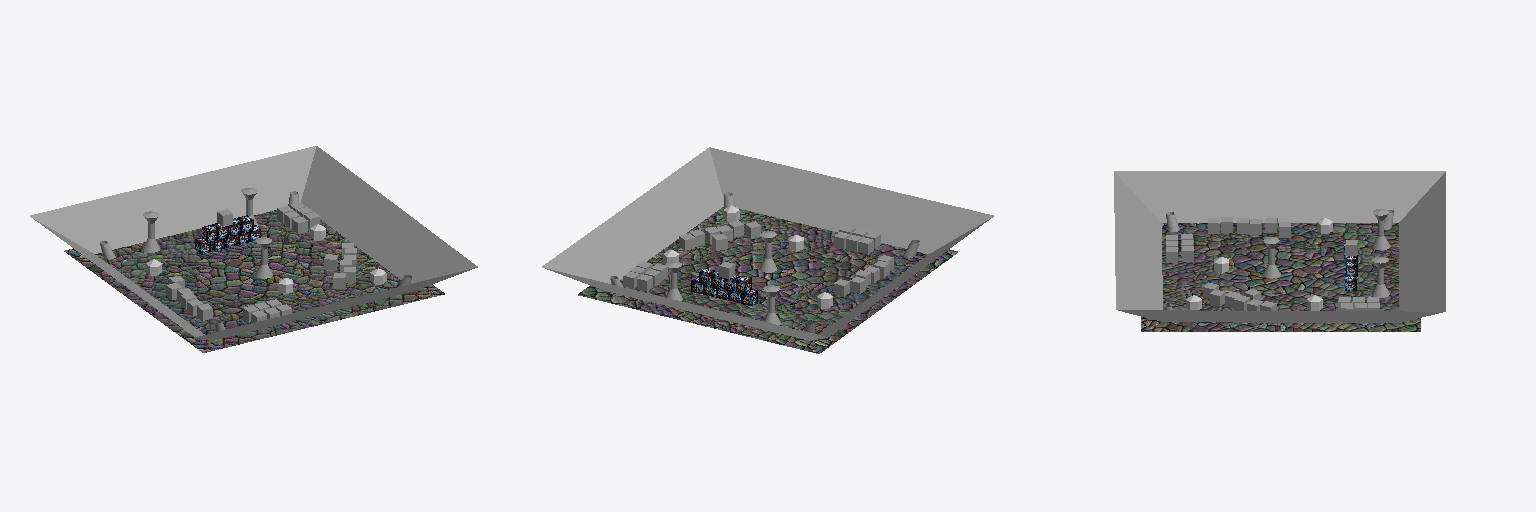
The picture shows the model from 3 angles: view 1: azimuth 30°, elevation 25°; view 2: azimuth 150°, elevation 25°; view 3: azimuth 270°, elevation 25°; orthographic projection.
Visible parts, largest first — view 1: Plane.001_None_GRAVST, Plane_None_CHRMWARP.J; view 2: Plane.001_None_GRAVST, Plane_None_CHRMWARP.J; view 3: Plane.001_None_GRAVST, Plane_None_CHRMWARP.J.
Boxes of the visible parts, box(x1,y1,x2,y2) form: Plane.001_None_GRAVST: box(30, 146, 477, 340); Plane_None_CHRMWARP.J: box(64, 210, 444, 352); Plane.001_None_GRAVST: box(542, 147, 993, 340); Plane_None_CHRMWARP.J: box(578, 207, 957, 353); Plane.001_None_GRAVST: box(1114, 171, 1445, 322); Plane_None_CHRMWARP.J: box(1141, 223, 1420, 331).
Size of the model in its own units: 18.99 by 2.42 by 18.99.
Materials: 6 (2 with a texture image).